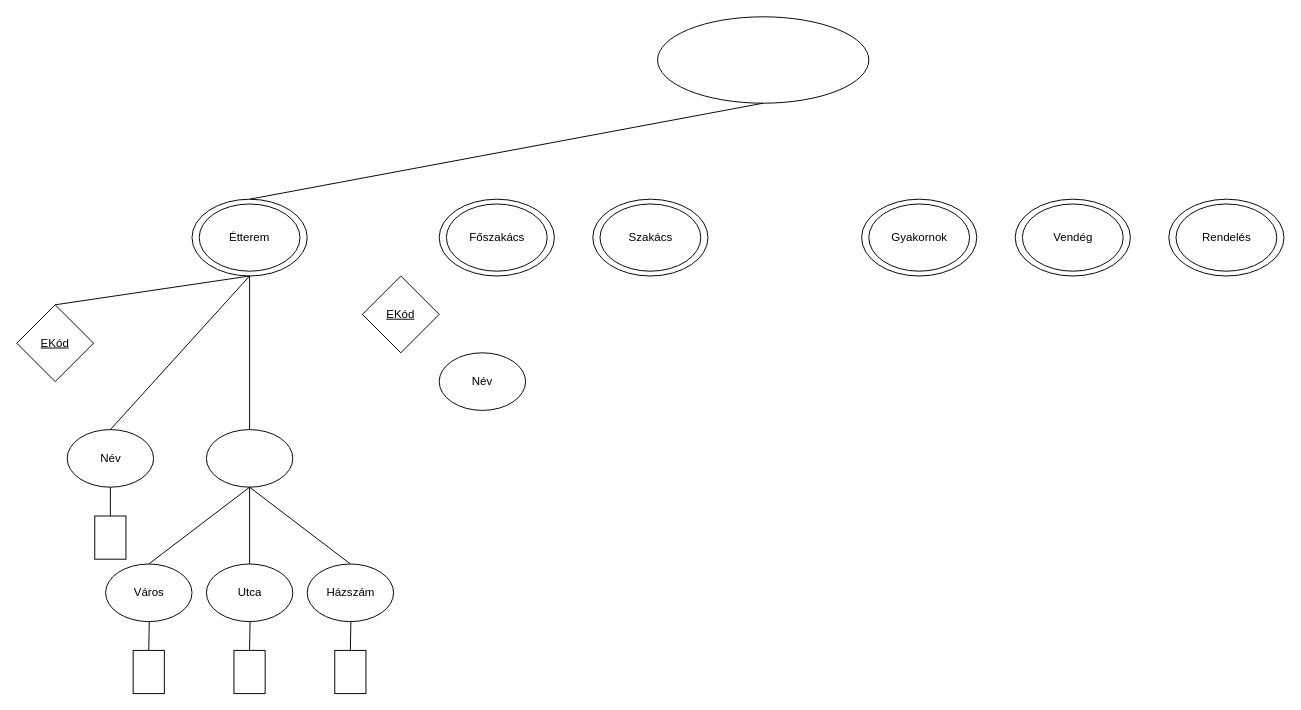
The diagram is 1301 pixels wide and 710 high, and some of its shapes have lost their labels. The shapes that lost their labels are listed below. From the top down, each one's centre as x and y in pixels, then its label:
pixel 763 59: OY6ICJ_Vendéglátas
pixel 249 458: Cím
